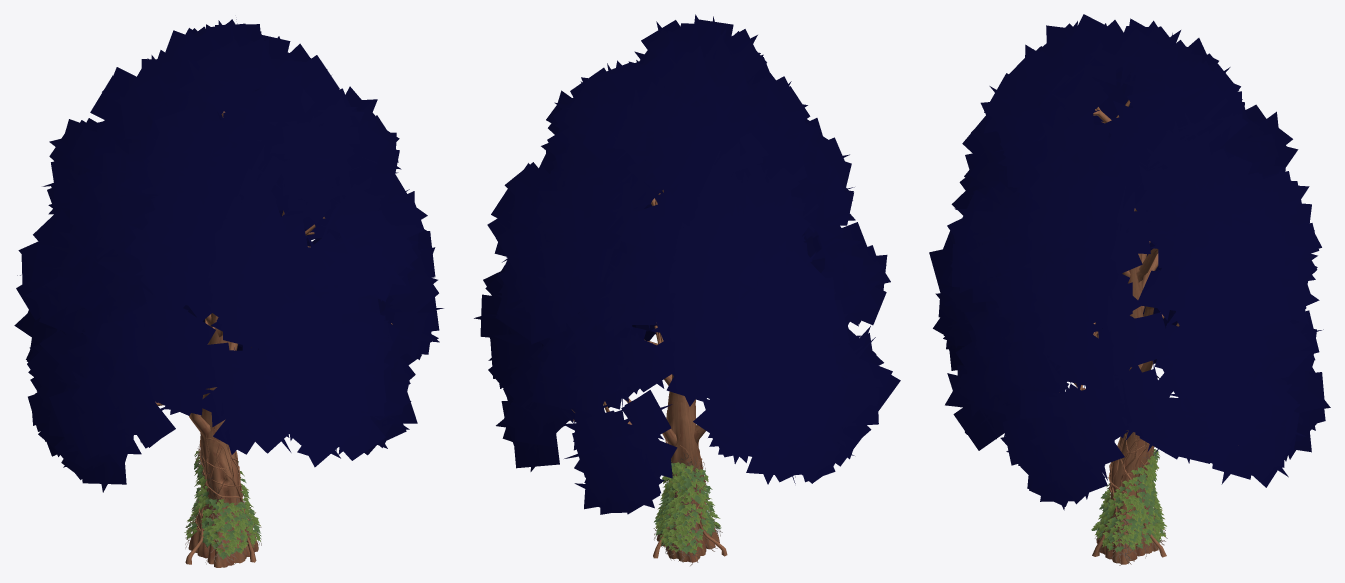
Rendered from SM_OakTree_02_Ivy.fbx.
The picture shows the model from 3 angles, left to right: view 1: azimuth 30°, elevation 25°; view 2: azimuth 150°, elevation 25°; view 3: azimuth 270°, elevation 25°; orthographic projection. The views are drawn at different scales.
Parts seen in each view (by area): view 1: SM_OakTree_02_Ivy_LOD0; view 2: SM_OakTree_02_Ivy_LOD0; view 3: SM_OakTree_02_Ivy_LOD0.
Part boxes in pixels (x1,y1,x2,y2): SM_OakTree_02_Ivy_LOD0: [14, 19, 443, 567]; SM_OakTree_02_Ivy_LOD0: [474, 14, 900, 565]; SM_OakTree_02_Ivy_LOD0: [929, 14, 1330, 565].
Size of what is drawn, in the model's own units: 1230 by 1659 by 1125.
